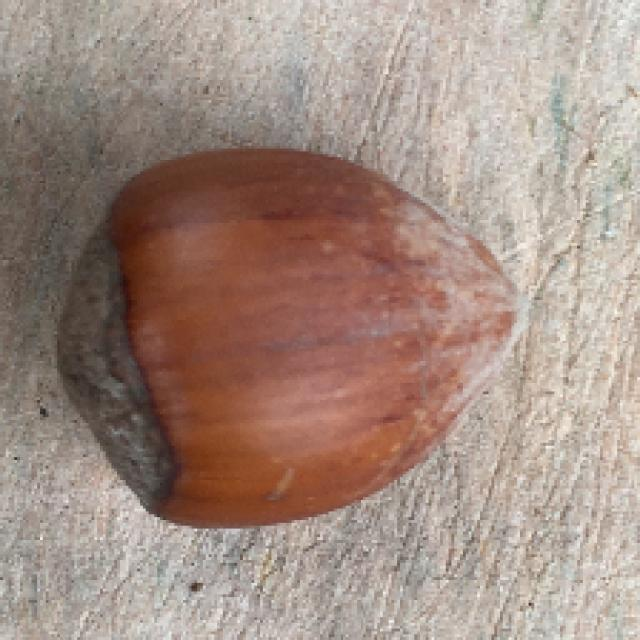qualityHazelnut: (51, 144, 530, 530)
